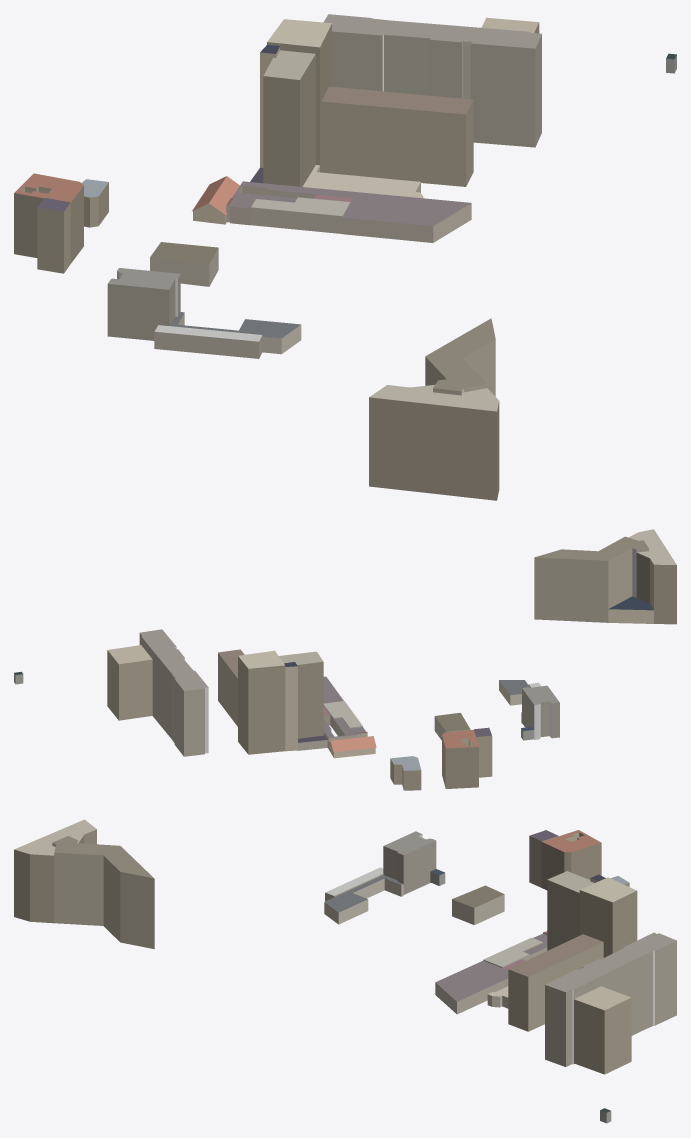
The picture shows the model from 3 angles, top to bottom: view 1: azimuth 30°, elevation 25°; view 2: azimuth 150°, elevation 25°; view 3: azimuth 270°, elevation 25°; orthographic projection. The views are drawn at different scales.
Parts seen in each view (by area): view 1: tuile; view 2: tuile; view 3: tuile.
Boxes of the visible parts, bbox=[...] form: tuile: bbox=[14, 14, 676, 500]; tuile: bbox=[14, 529, 676, 790]; tuile: bbox=[14, 819, 676, 1123].
Size of the model in its own units: 260 by 47.4 by 283.
